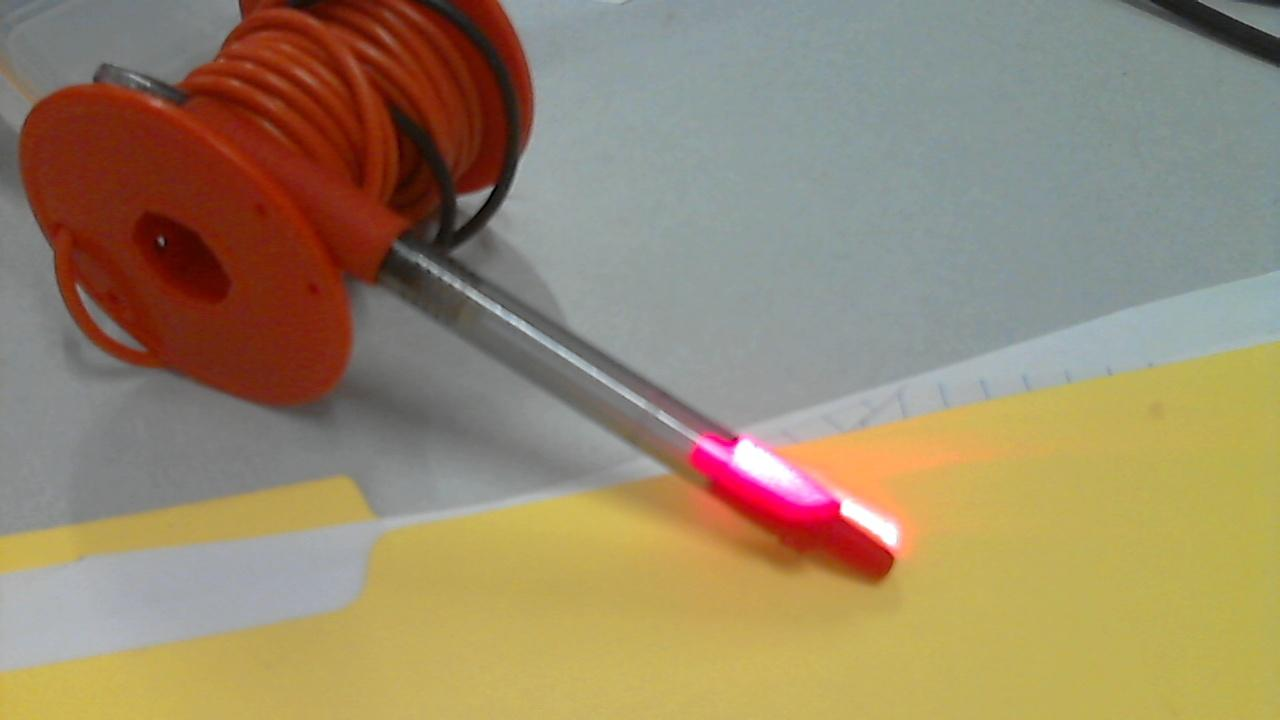Object ballpoint pen - Material plastic - Color red - Pdfname Tg2wygrqE5uZ: (711, 428, 844, 525)
